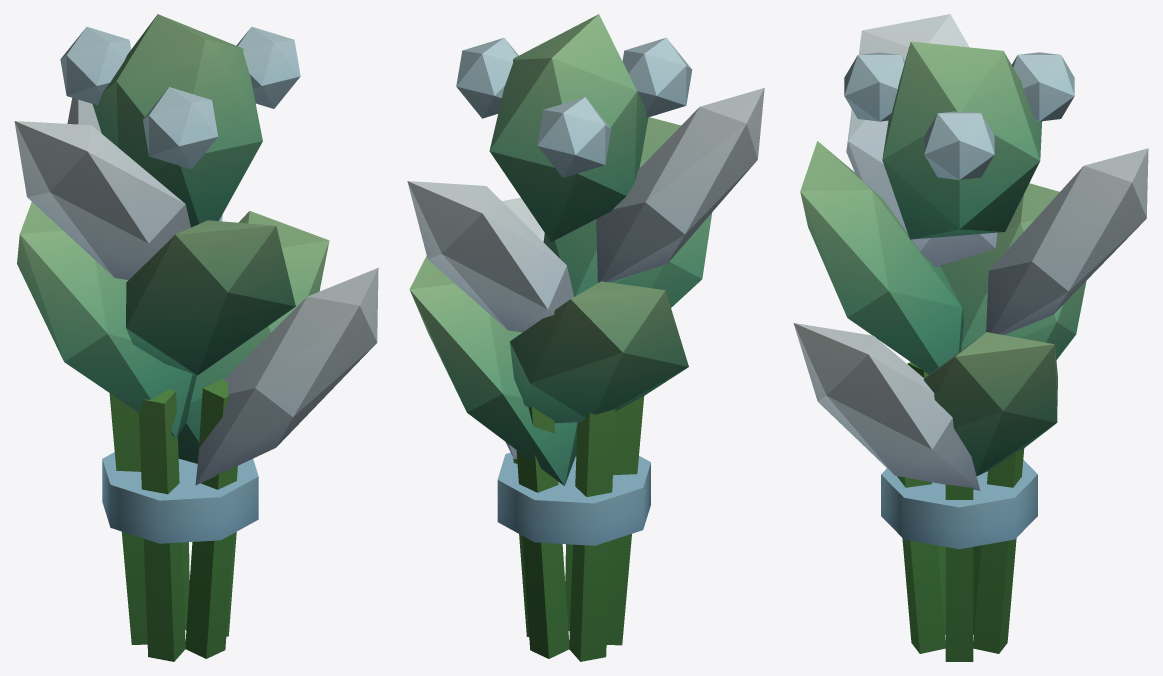
File: item_herb_moonleaf.glb
3 renders of one model, left to right at view 1: azimuth 30°, elevation 25°; view 2: azimuth 150°, elevation 25°; view 3: azimuth 270°, elevation 25°, orthographic. The views are drawn at different scales.
Visible parts, largest first — view 1: item_herb_moonleaf; view 2: item_herb_moonleaf; view 3: item_herb_moonleaf.
Part boxes in pixels (<box>): item_herb_moonleaf: <box>14,14,378,661</box>; item_herb_moonleaf: <box>407,14,764,661</box>; item_herb_moonleaf: <box>793,14,1148,661</box>.
Size of the model in its own units: 0.7808 by 1.44 by 0.7698.
Materials: 1 (1 with a texture image).
